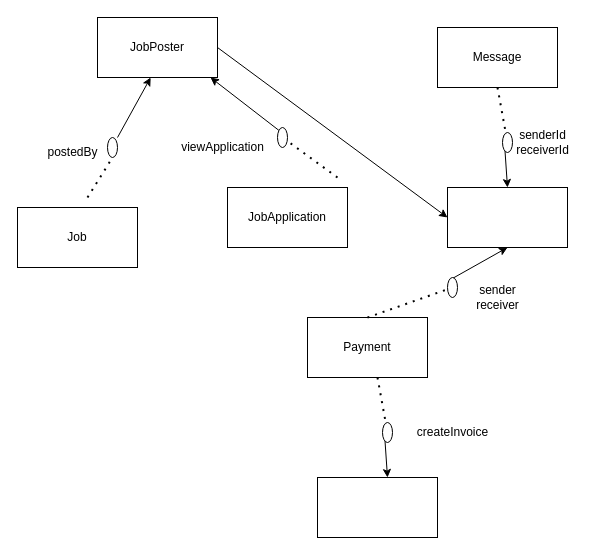
Some shapes in this 600 by 555 pixel diagram are drawn without their labels. The shapes that lost their labels are listed below. From the top down, each one's box as (x1, y1, x2, y2) in pixels, then its label:
(446, 186, 568, 248): User
(316, 476, 438, 538): Invoice
